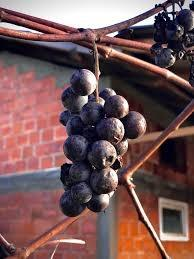Grape Overripe: (59, 69, 145, 216)
